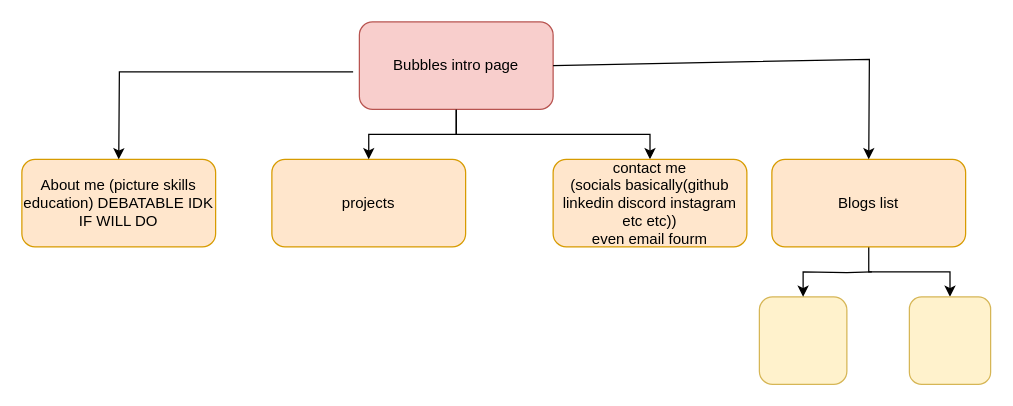
Some shapes in this 1013 by 406 pixel diagram are drawn without their labels. The shapes that lost their labels are listed below. From the top down, each one's box as (x1, y1, x2, y2) in pixels, then its label:
(758, 296, 847, 384): Blog1
(908, 296, 991, 384): Blog n
